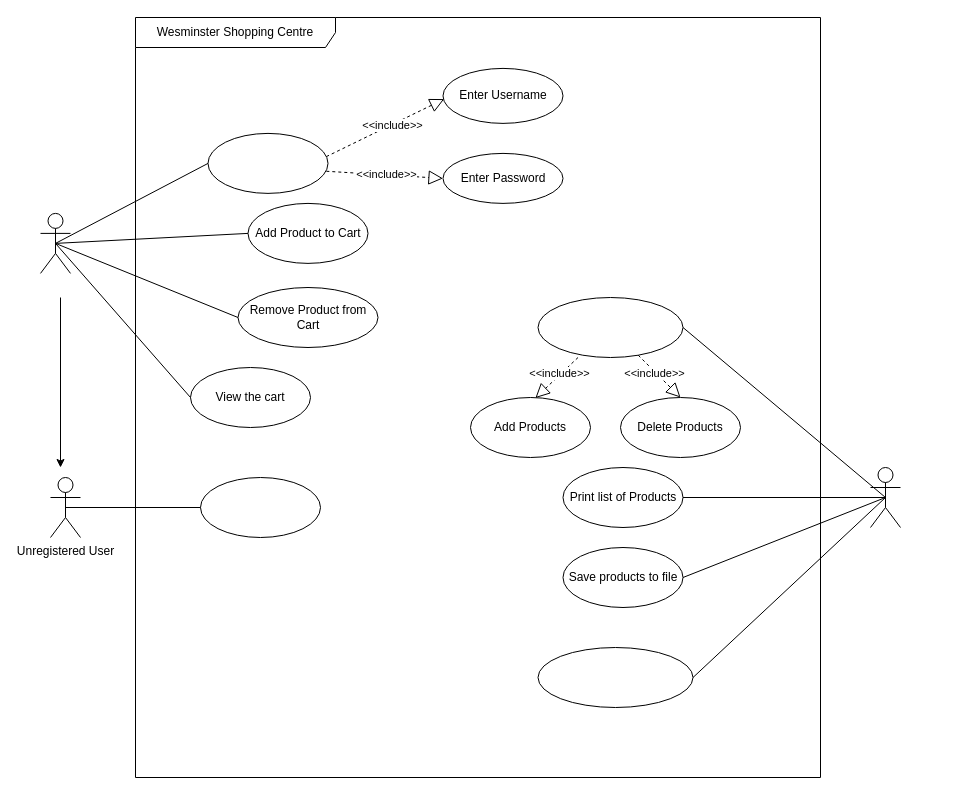
Image size: 953x795. Some labels were removed from this diagram. The box of each missing label's shape, as (x1, y1, x2, y2) in pixels:
Load products saved in file: (537, 646, 693, 708)
Login: (207, 132, 328, 193)
Register: (200, 476, 320, 538)
Update the Product List: (537, 296, 683, 358)
User: (40, 212, 70, 273)
Westminster Shopping Manager: (870, 466, 900, 528)
